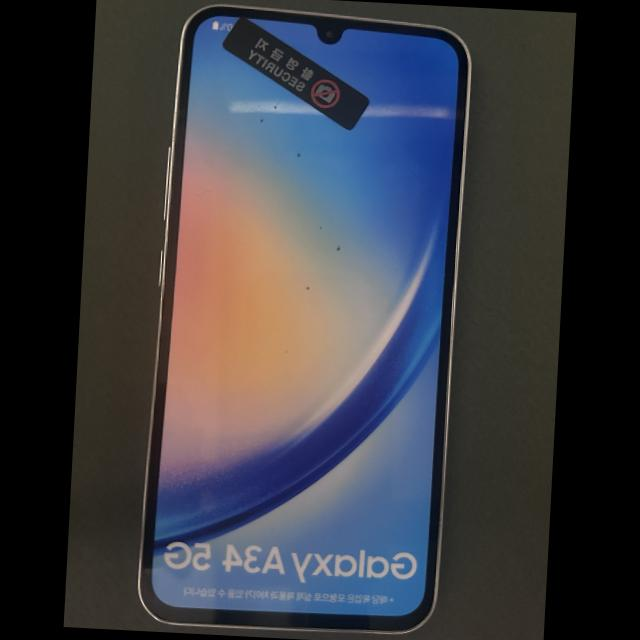lens: (325, 30, 334, 37)
phone: (139, 5, 471, 633)
sticker: (223, 18, 369, 130)
